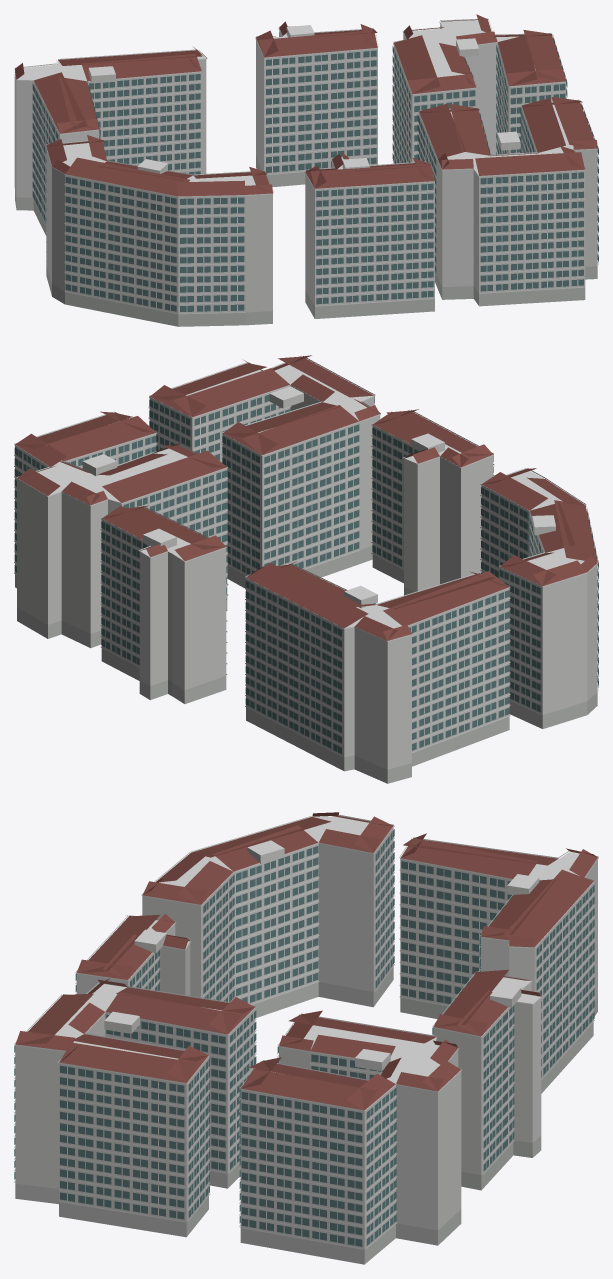
The model's file is representative-a13811203.glb.
The picture shows the model from 3 angles, top to bottom: view 1: azimuth 30°, elevation 25°; view 2: azimuth 150°, elevation 25°; view 3: azimuth 270°, elevation 25°; orthographic projection. The views are drawn at different scales.
Parts seen in each view (by area): view 1: A13811203_wall001, A13811203_glass001, A13811203_roof001, A13811203_trim001, A13811203_base001; view 2: A13811203_wall001, A13811203_glass001, A13811203_roof001, A13811203_trim001, A13811203_base001; view 3: A13811203_wall001, A13811203_glass001, A13811203_roof001, A13811203_trim001, A13811203_base001.
Boxes of the visible parts, x1,y1,x2,y2 form: A13811203_wall001: (14, 20, 597, 313); A13811203_glass001: (32, 37, 598, 311); A13811203_roof001: (15, 14, 597, 196); A13811203_trim001: (14, 18, 598, 314); A13811203_base001: (15, 155, 597, 326); A13811203_wall001: (15, 365, 597, 769); A13811203_glass001: (14, 394, 598, 754); A13811203_roof001: (15, 355, 597, 640); A13811203_trim001: (14, 355, 598, 756); A13811203_base001: (15, 546, 597, 783); A13811203_wall001: (15, 816, 597, 1249); A13811203_glass001: (14, 829, 594, 1246); A13811203_roof001: (15, 812, 597, 1110); A13811203_trim001: (14, 814, 598, 1249); A13811203_base001: (15, 965, 597, 1264).
Size of the model in its own units: 145 by 37 by 121.
